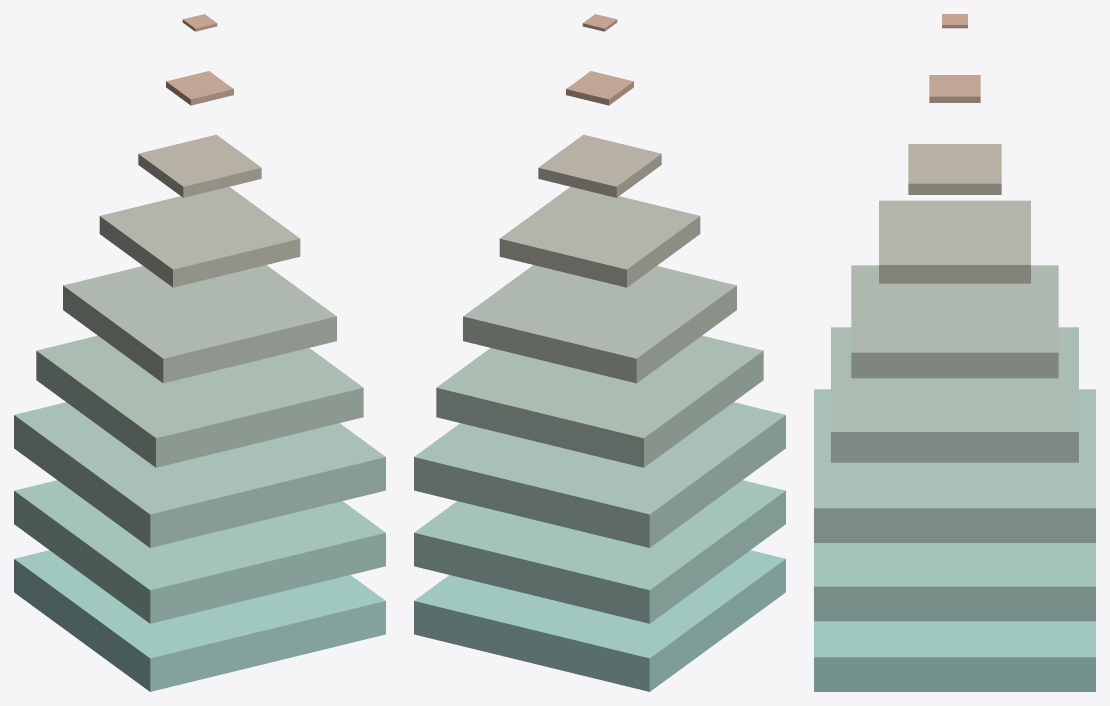
The model's file is mani_buil.fbx.
The picture shows the model from 3 angles, left to right: view 1: azimuth 30°, elevation 25°; view 2: azimuth 150°, elevation 25°; view 3: azimuth 270°, elevation 25°; orthographic projection. The views are drawn at different scales.
Visible parts, largest first — view 1: pCube69, pCube68, pCube70, pCube67, pCube71, pCube72, pCube73, pCube74; view 2: pCube69, pCube68, pCube70, pCube67, pCube71, pCube72, pCube73, pCube74; view 3: pCube69, pCube70, pCube68, pCube71, pCube67, pCube72, pCube73, pCube74.
Part boxes in pixels (x1=…): pCube69: x1=14, y1=402, x2=385, y2=547; pCube68: x1=14, y1=480, x2=385, y2=623; pCube70: x1=36, y1=335, x2=363, y2=467; pCube67: x1=14, y1=550, x2=385, y2=691; pCube71: x1=63, y1=265, x2=336, y2=383; pCube72: x1=99, y1=186, x2=300, y2=287; pCube73: x1=138, y1=134, x2=261, y2=197; pCube74: x1=166, y1=71, x2=233, y2=105; pCube69: x1=414, y1=402, x2=785, y2=547; pCube68: x1=414, y1=480, x2=785, y2=623; pCube70: x1=436, y1=335, x2=763, y2=467; pCube67: x1=414, y1=550, x2=785, y2=691; pCube71: x1=463, y1=265, x2=736, y2=383; pCube72: x1=499, y1=186, x2=700, y2=287; pCube73: x1=538, y1=134, x2=661, y2=197; pCube74: x1=566, y1=71, x2=633, y2=105; pCube69: x1=814, y1=389, x2=1095, y2=542; pCube70: x1=831, y1=327, x2=1078, y2=462; pCube68: x1=814, y1=543, x2=1095, y2=621; pCube71: x1=851, y1=265, x2=1058, y2=378; pCube67: x1=814, y1=621, x2=1095, y2=691; pCube72: x1=879, y1=200, x2=1030, y2=283; pCube73: x1=908, y1=144, x2=1001, y2=194; pCube74: x1=929, y1=75, x2=980, y2=102.
Bounding box in the file's own units: 1 × 2.4 × 1.
